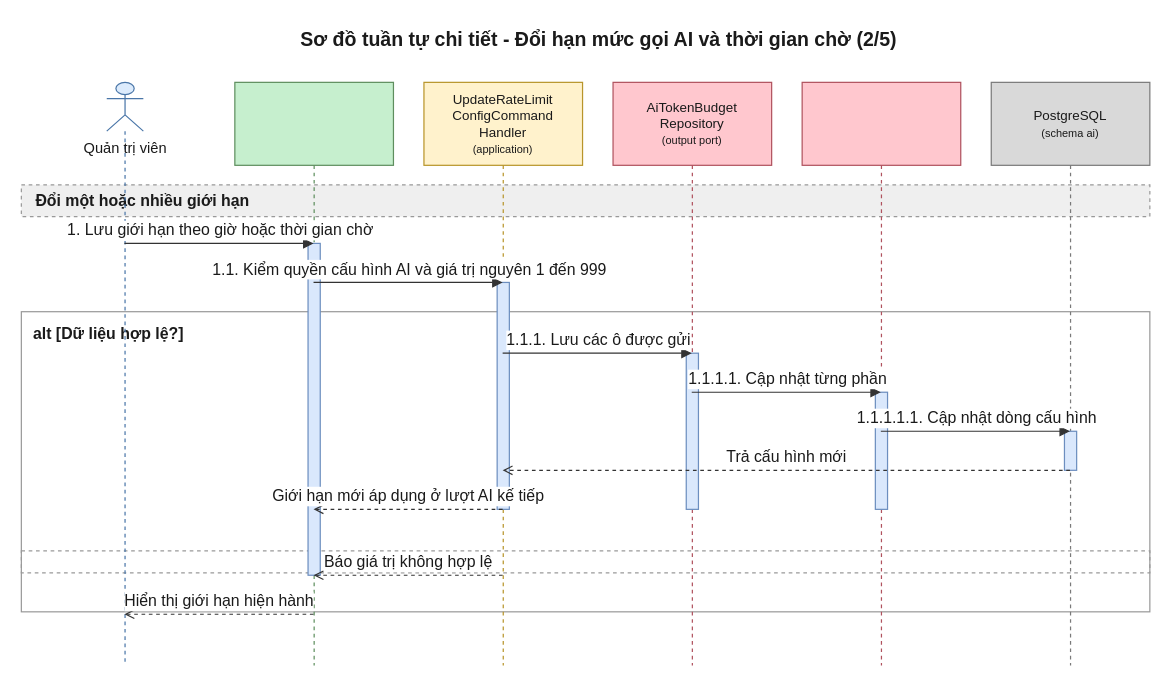
This 1171x687 diagram has some shape labels left out. Here are the shapes that lost their labels. From the top down, the box of each, then its label:
(234, 81, 393, 666): AdminLanguage Config Controller (presentation)
(801, 81, 961, 666): JdbcAiToken Budget Repository (persistence adapter)
(20, 550, 1150, 573): else
